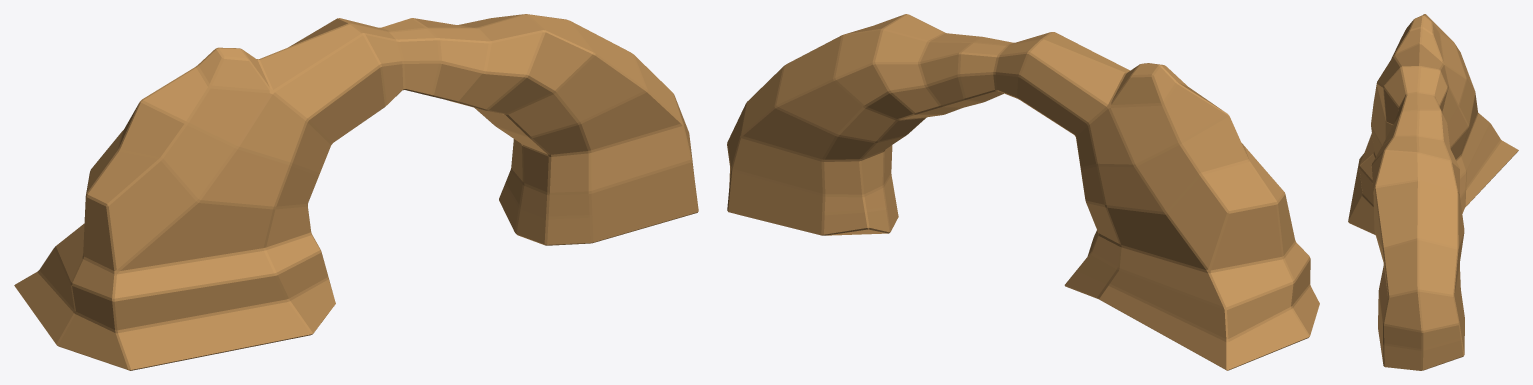
File: Desert_Arch.fbx
The picture shows the model from 3 angles, left to right: view 1: azimuth 30°, elevation 25°; view 2: azimuth 150°, elevation 25°; view 3: azimuth 270°, elevation 25°; orthographic projection. The views are drawn at different scales.
Parts seen in each view (by area): view 1: Desert Arch; view 2: Desert Arch; view 3: Desert Arch.
Boxes of the visible parts, box(x1,y1,x2,y2) form: Desert Arch: box(14, 14, 698, 370); Desert Arch: box(727, 14, 1319, 370); Desert Arch: box(1348, 14, 1518, 370).
Size of the model in its own units: 16378 by 6441 by 5200.
